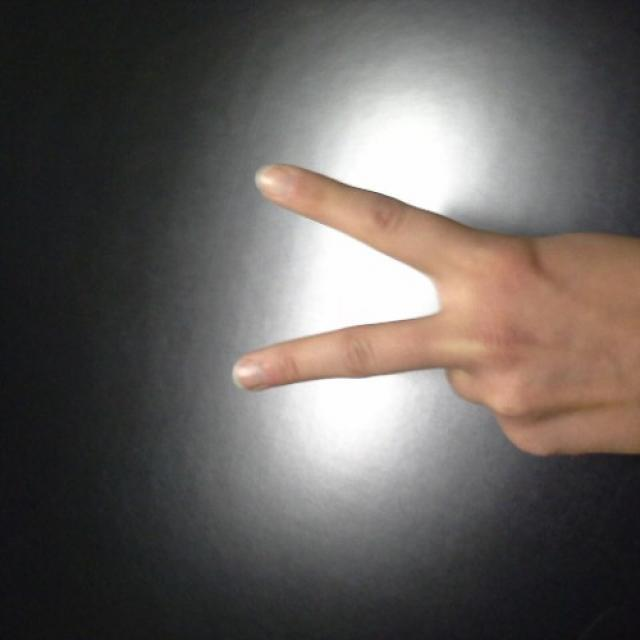scissors: (232, 160, 613, 460)
